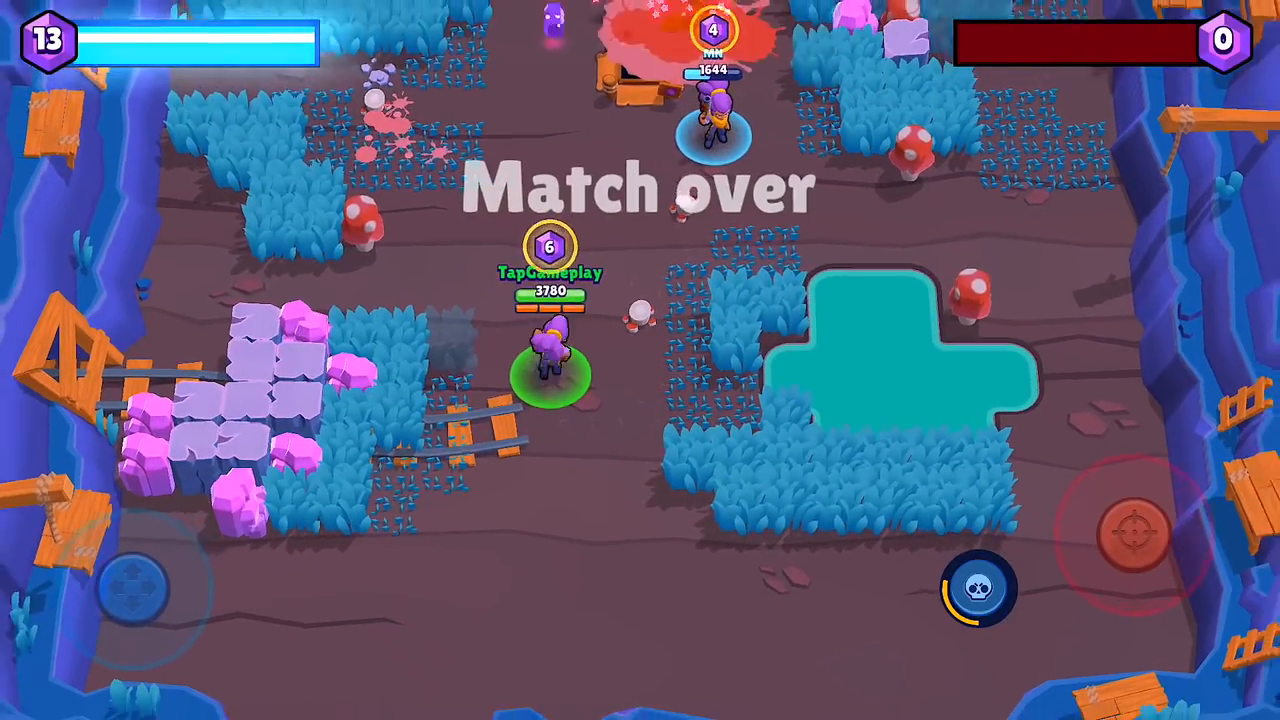move_stick: (100, 557, 179, 614)
